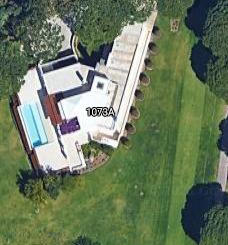pool: (18, 104, 49, 146)
